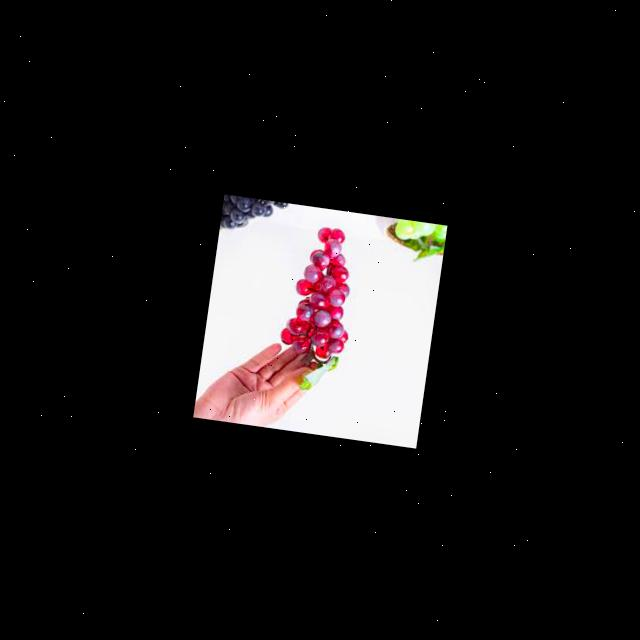grape: (275, 222, 362, 374), (218, 194, 288, 240)
